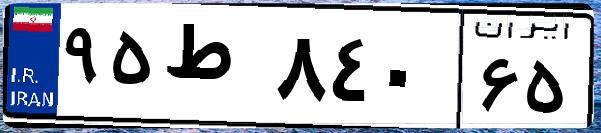0: (385, 28, 445, 110)
4: (330, 28, 385, 110)
5: (525, 38, 570, 115), (110, 28, 158, 98)
6: (475, 38, 525, 113)
8: (270, 28, 330, 110)
9: (57, 26, 110, 100)
ط: (158, 20, 270, 120)
